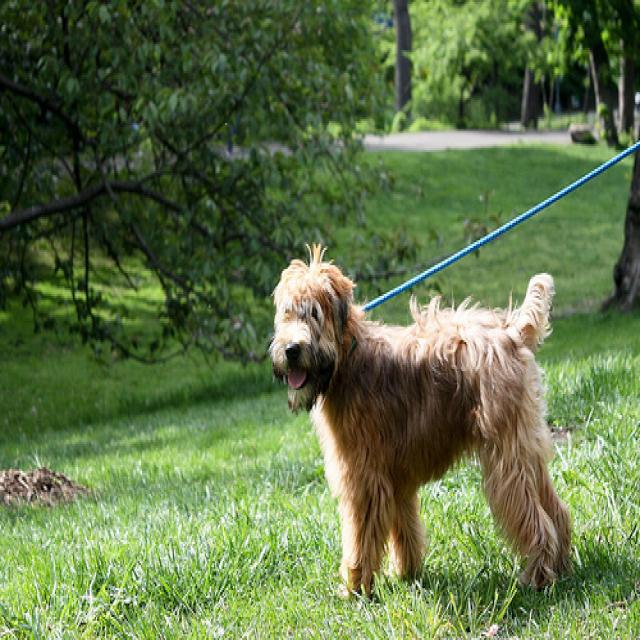dog-wheaten_terrier: (262, 238, 582, 611)
